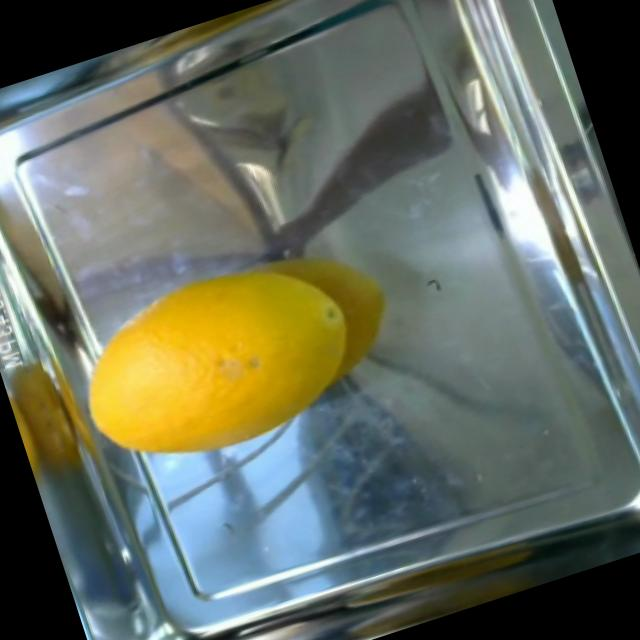Fruit: (49, 250, 301, 487)
